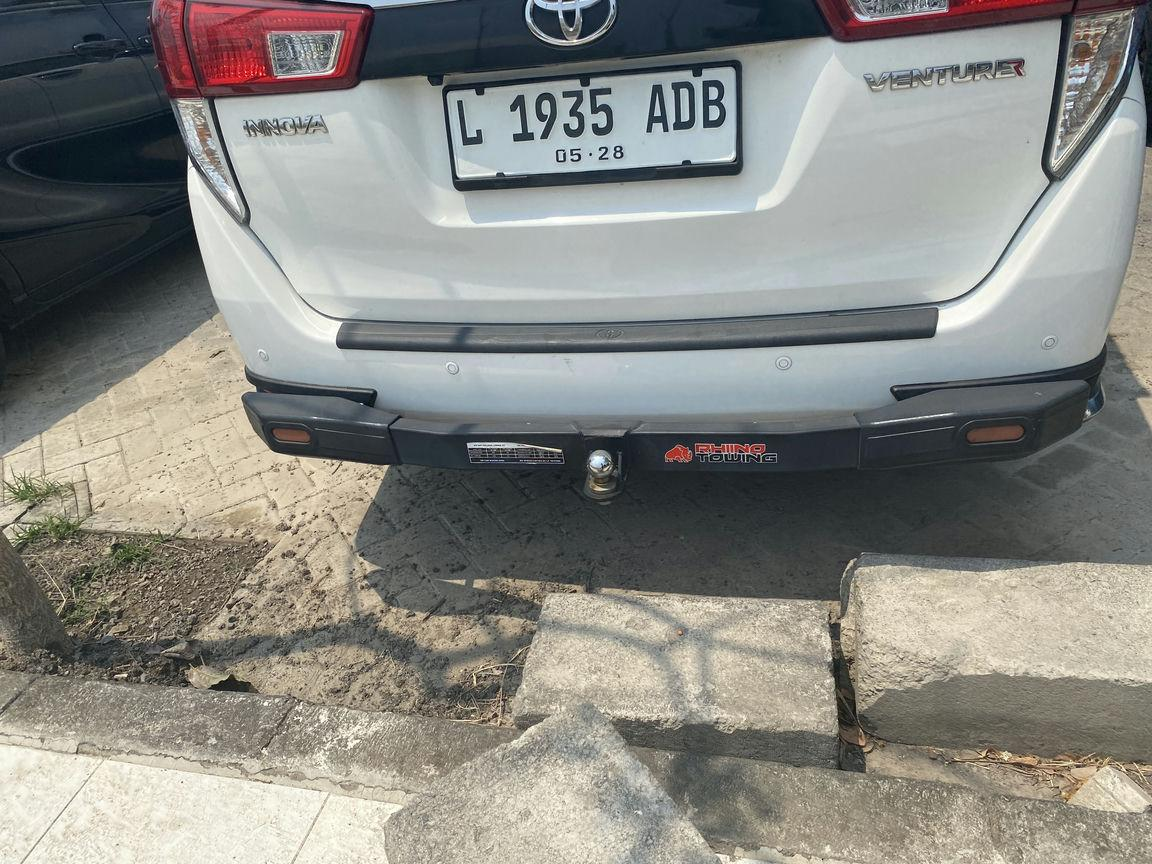plat: (443, 63, 740, 189)
